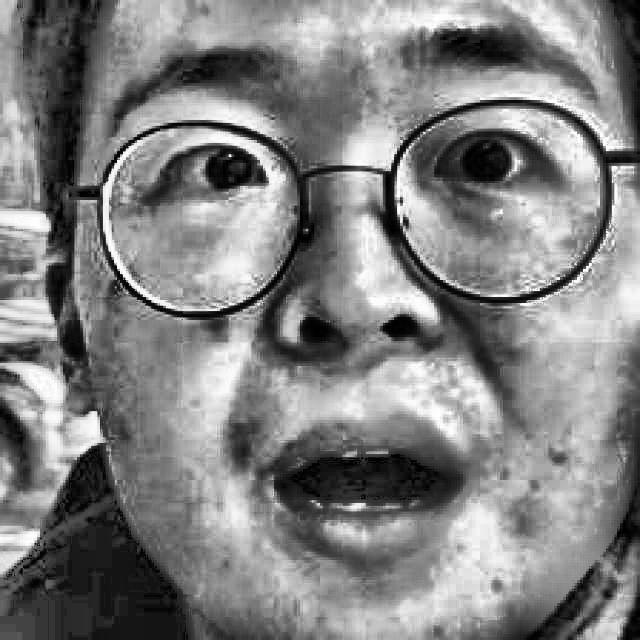fear: (81, 12, 623, 602)
